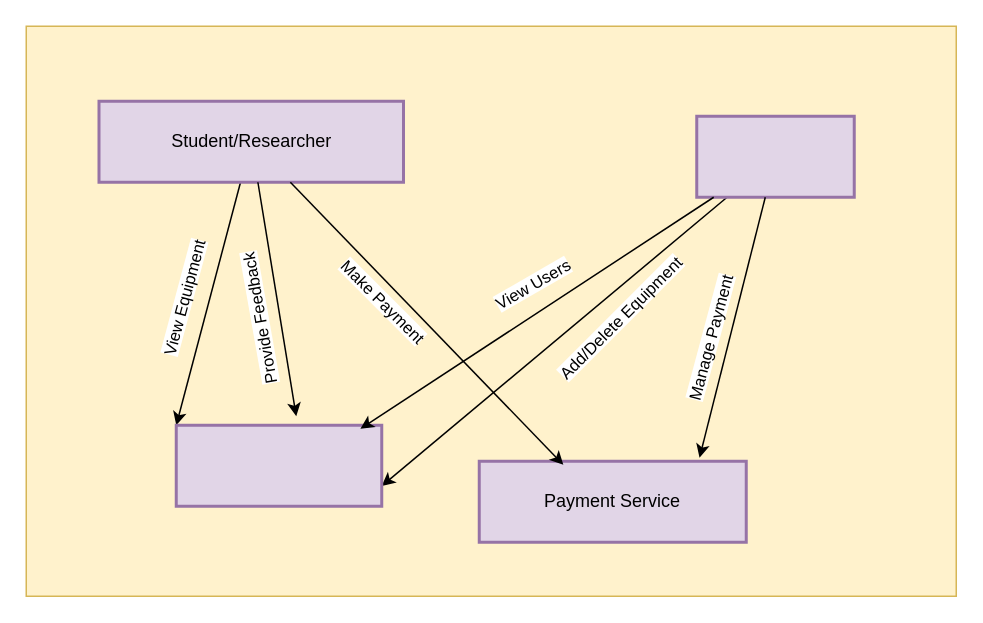
Some shapes in this 983 by 623 pixel diagram are drawn without their labels. Here are the shapes that lost their labels. From the top down, the box of each, then its label:
(694, 114, 855, 198): Admin
(174, 423, 382, 507): Products
